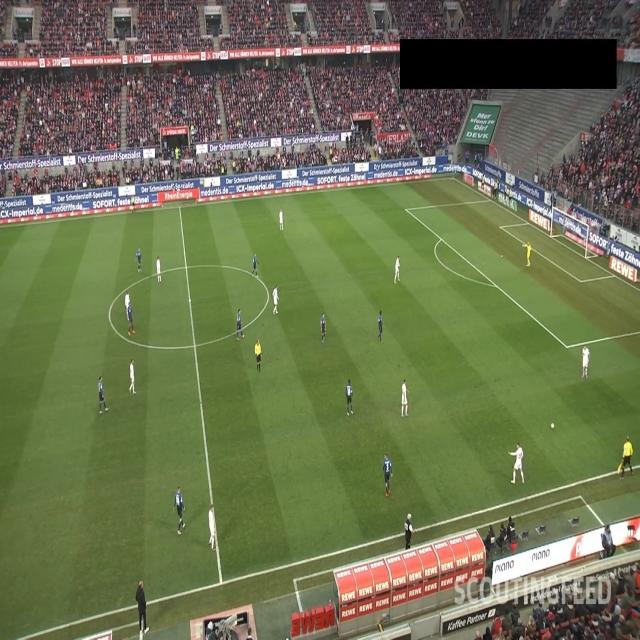ball: (550, 422, 555, 430)
